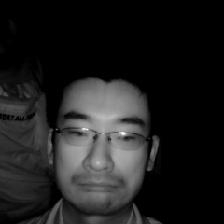sad: (32, 61, 164, 212)
